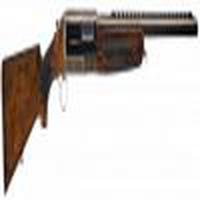gun: (1, 12, 197, 185)
